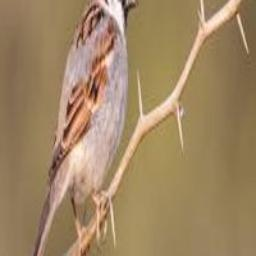Sparrow: (24, 0, 138, 256)
